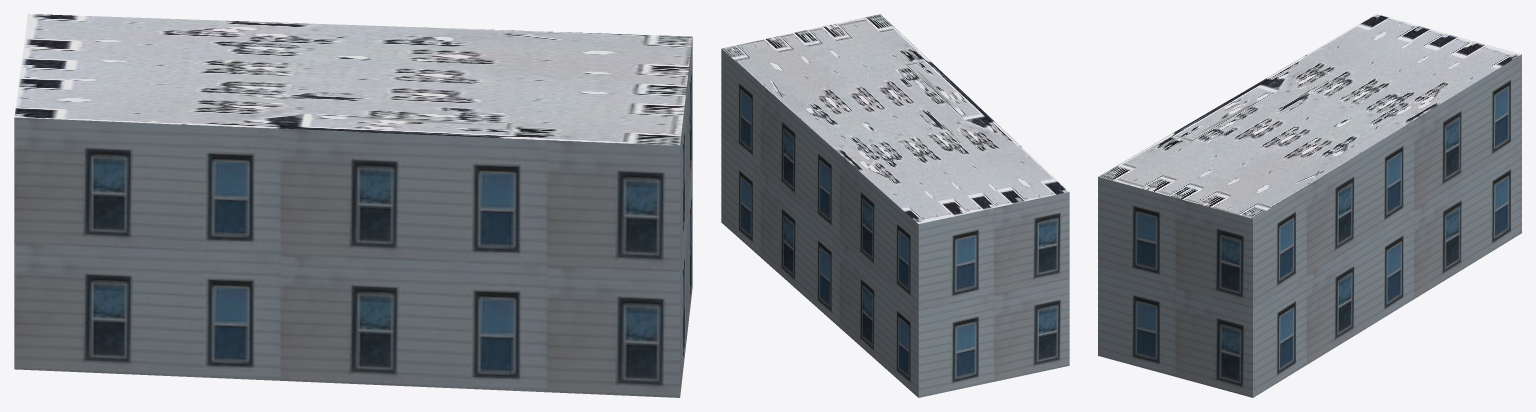
File: ResTex__1837.fbx
The picture shows the model from 3 angles, left to right: view 1: azimuth 30°, elevation 25°; view 2: azimuth 150°, elevation 25°; view 3: azimuth 270°, elevation 25°; orthographic projection. The views are drawn at different scales.
Visible parts, largest first — view 1: CityEngineMaterial_18_m, CityEngineMaterial_4_m; view 2: CityEngineMaterial_18_m, CityEngineMaterial_4_m; view 3: CityEngineMaterial_18_m, CityEngineMaterial_4_m.
Part boxes in pixels (<box>): CityEngineMaterial_18_m: <box>14,37,692,397</box>; CityEngineMaterial_4_m: <box>14,14,692,145</box>; CityEngineMaterial_18_m: <box>721,49,1069,397</box>; CityEngineMaterial_4_m: <box>722,14,1069,223</box>; CityEngineMaterial_18_m: <box>1098,54,1521,397</box>; CityEngineMaterial_4_m: <box>1098,14,1521,218</box>.
Bounding box in the file's own units: 14.74 × 6 × 12.88.
Materials: 2 (2 with a texture image).
